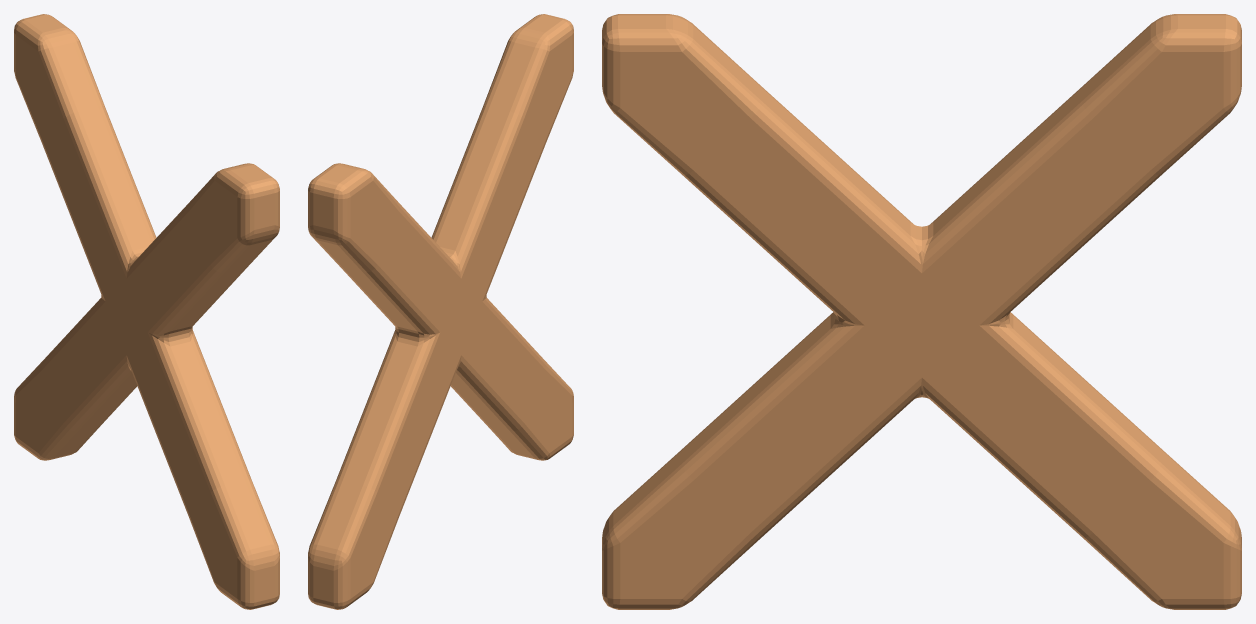
File: Hit Token.fbx
3 renders of one model, left to right at view 1: azimuth 30°, elevation 25°; view 2: azimuth 150°, elevation 25°; view 3: azimuth 270°, elevation 25°, orthographic. The views are drawn at different scales.
Parts seen in each view (by area): view 1: Hit Icon; view 2: Hit Icon; view 3: Hit Icon.
Boxes of the visible parts, x1,y1,x2,y2 form: Hit Icon: (14,14,279,609); Hit Icon: (308,14,573,609); Hit Icon: (602,14,1241,609).
Bounding box in the file's own units: 10 × 100 × 100.
